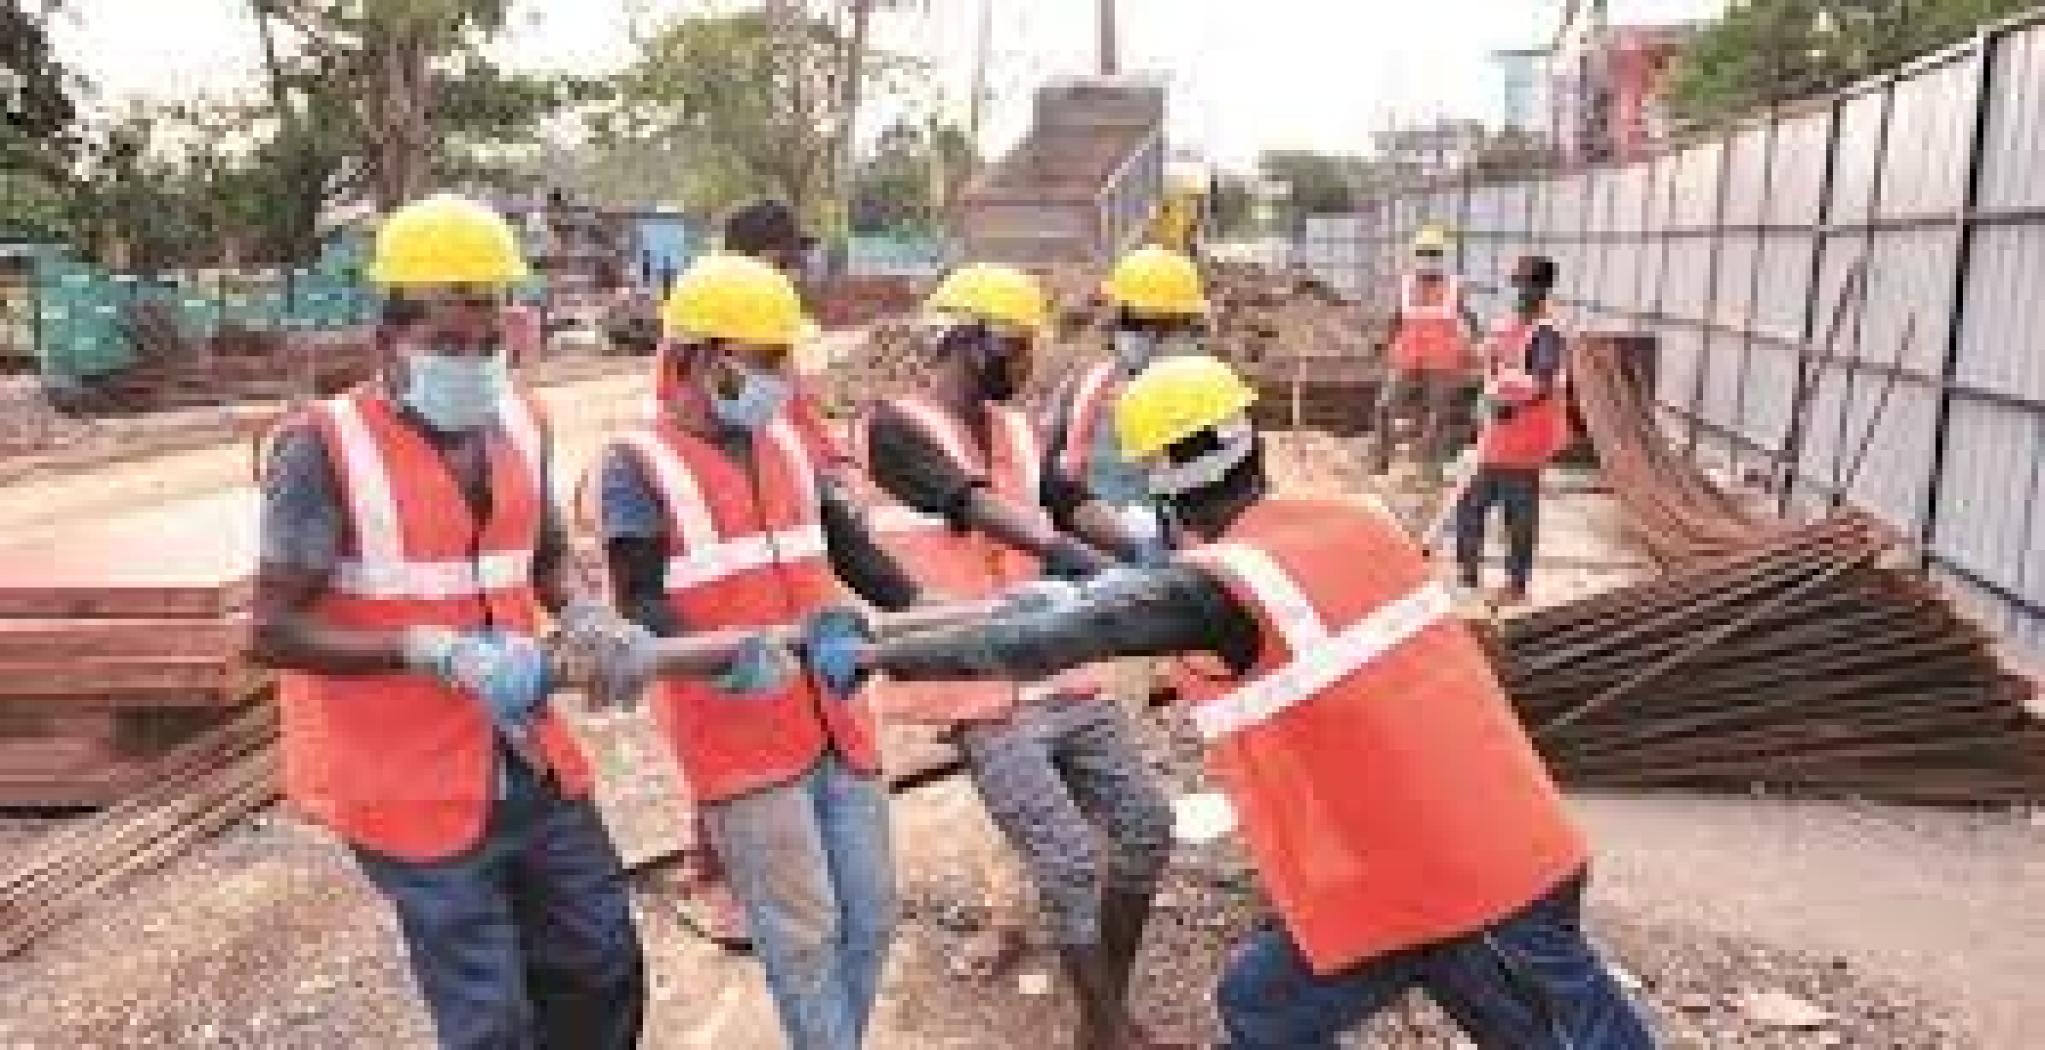gloved: (437, 615, 560, 707)
